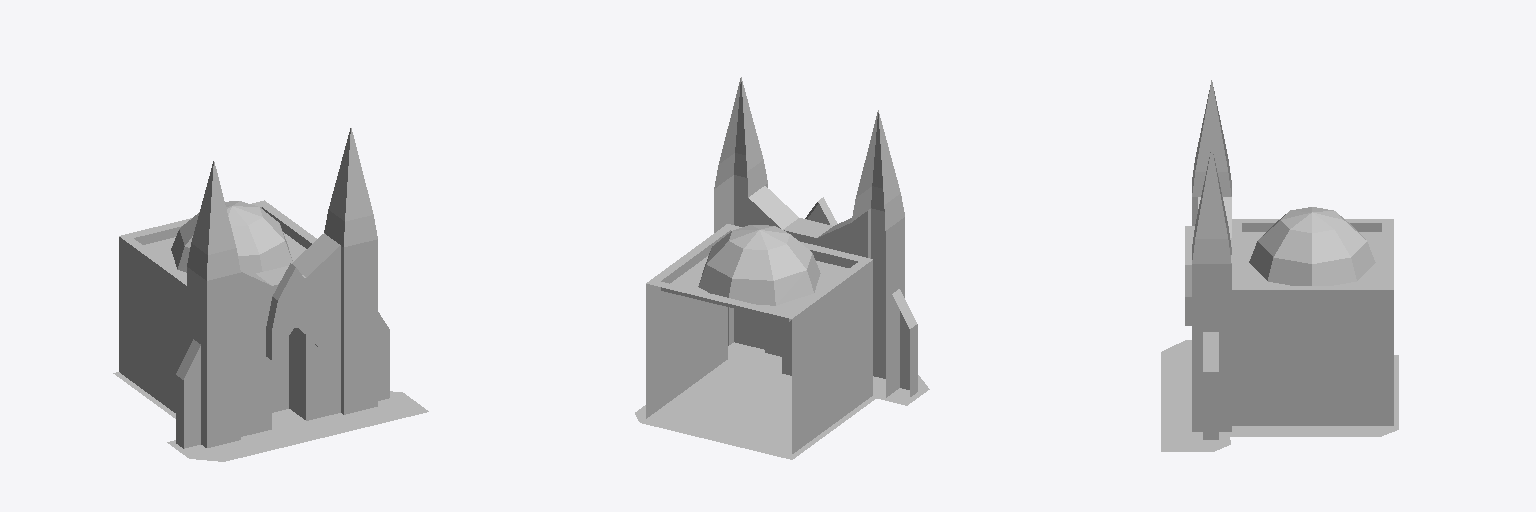
File: Foreign Building.obj
The picture shows the model from 3 angles: view 1: azimuth 30°, elevation 25°; view 2: azimuth 150°, elevation 25°; view 3: azimuth 270°, elevation 25°; orthographic projection.
Parts seen in each view (by area): view 1: polygon1, polygon2, polygon0; view 2: polygon1, polygon2, polygon0; view 3: polygon1, polygon2, polygon0.
Boxes of the visible parts, <box> form: polygon1: <box>119,233,377,447</box>; polygon2: <box>119,128,389,448</box>; polygon0: <box>113,372,428,461</box>; polygon1: <box>646,175,904,453</box>; polygon2: <box>646,77,917,396</box>; polygon0: <box>635,342,929,459</box>; polygon1: <box>1192,180,1393,431</box>; polygon2: <box>1185,80,1393,439</box>; polygon0: <box>1161,340,1398,451</box>.
Bounding box in the file's own units: 120 × 141 × 108.